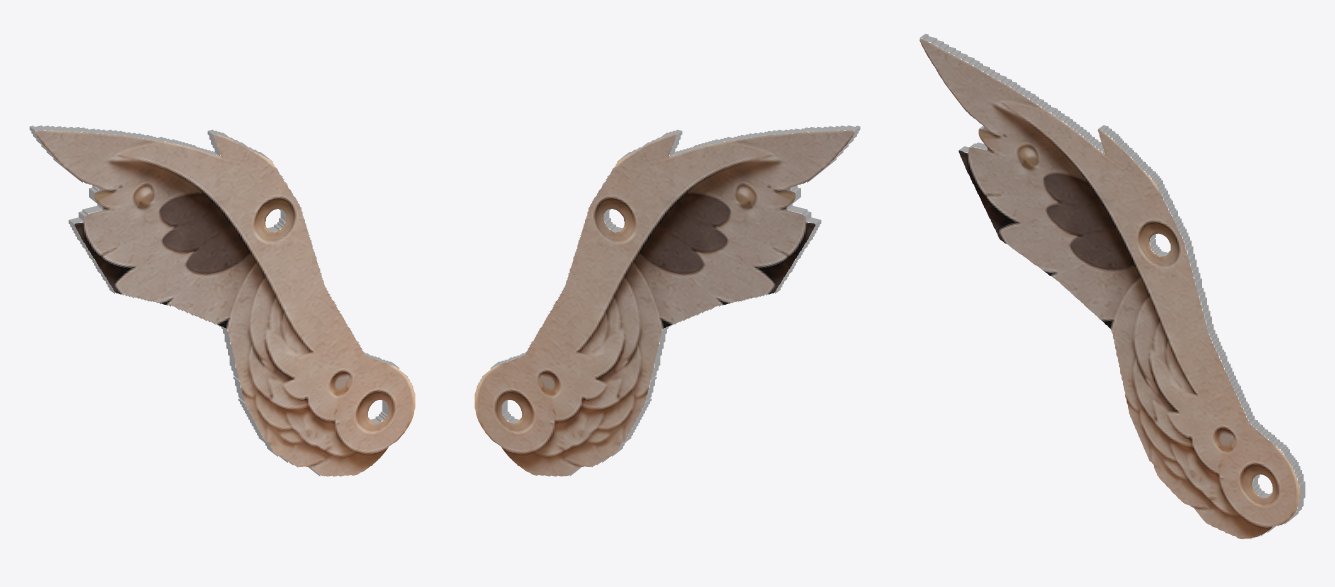
Rendered from RootLeft.glb.
3 renders of one model, left to right at view 1: azimuth 30°, elevation 25°; view 2: azimuth 150°, elevation 25°; view 3: azimuth 330°, elevation 25°, orthographic.
Parts seen in each view (by area): view 1: PaperVolume; view 2: PaperVolume; view 3: PaperVolume.
Boxes of the visible parts, x1,y1,x2,y2 form: PaperVolume: [29, 125, 415, 476]; PaperVolume: [474, 125, 860, 476]; PaperVolume: [919, 33, 1305, 539].
Bounding box in the file's own units: 3.27 × 3.46 × 0.08.
Materials: 3 (2 with a texture image).
